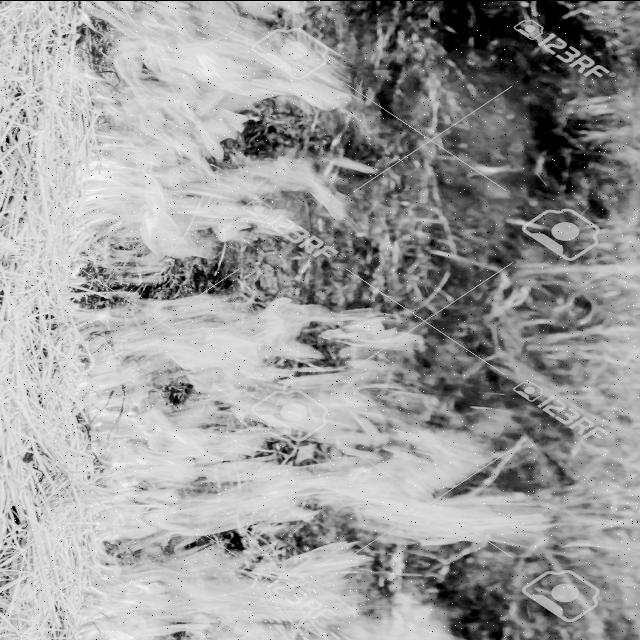api: (44, 1, 637, 640)
asap: (396, 49, 570, 273), (173, 583, 471, 640)
